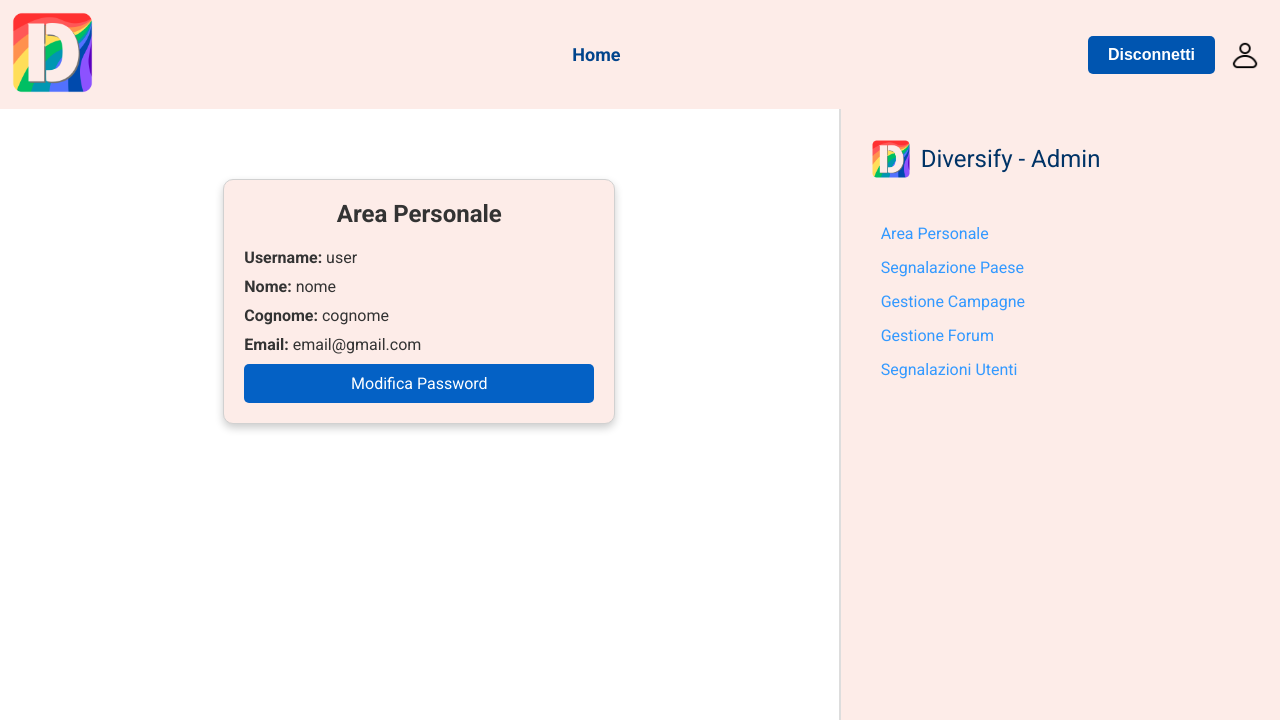
Test: Segnalazione Paese › Dovrebbe cercare e selezionare un paese dall'elenco
Click the link "Segnalazione Paese" at (953, 268), box [881,258,1024,277]
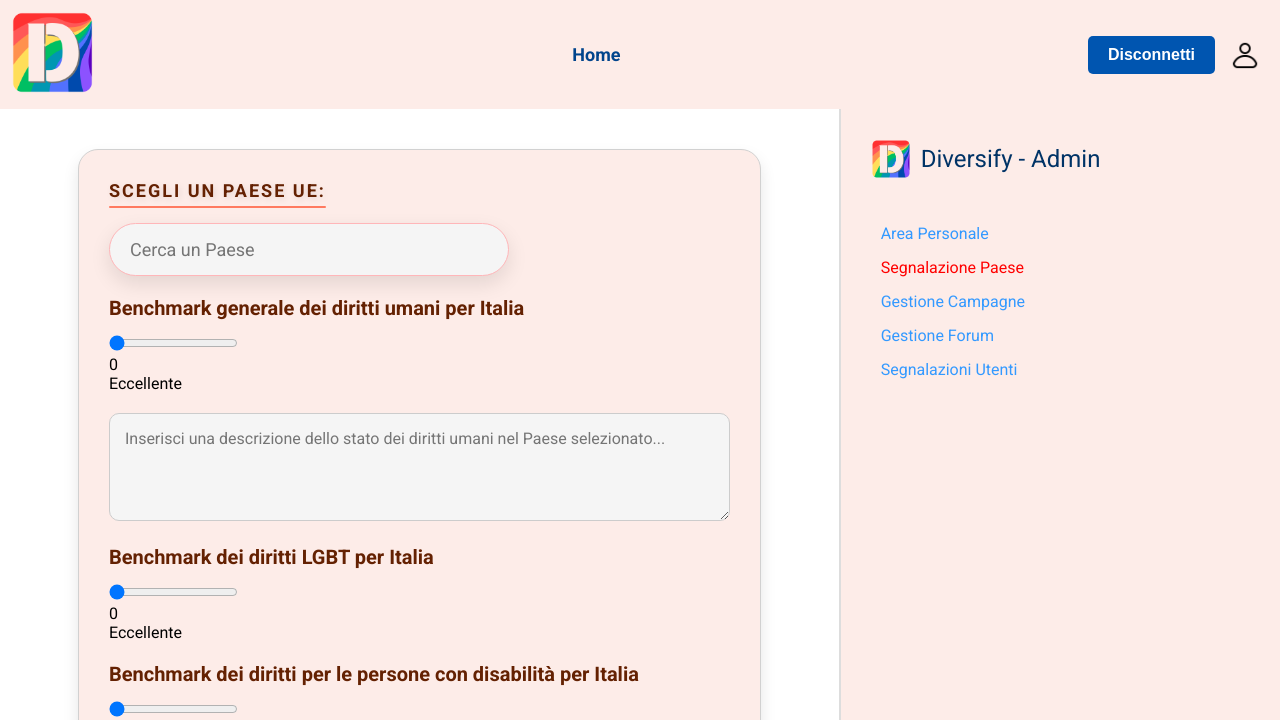
Click the field with id "country" at (309, 250), box [109,223,509,276]
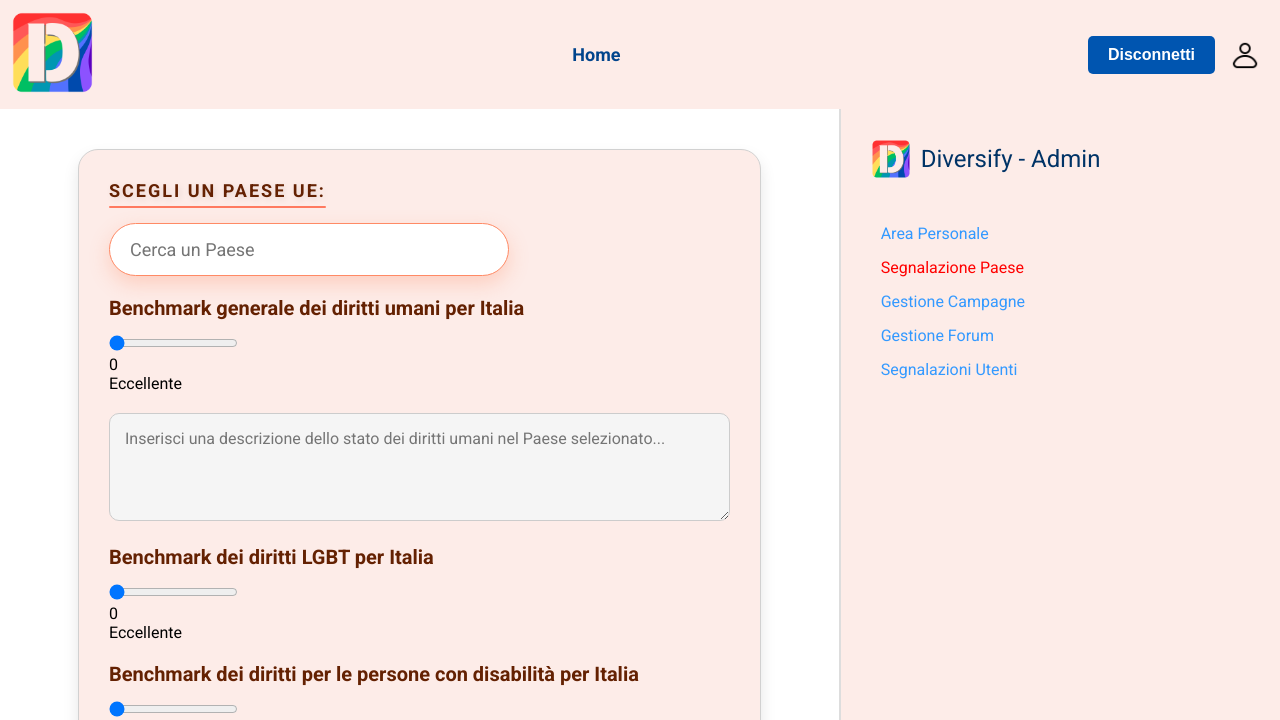
Type "Francia" into the field with id "country" at (309, 250), box [109,223,509,276]
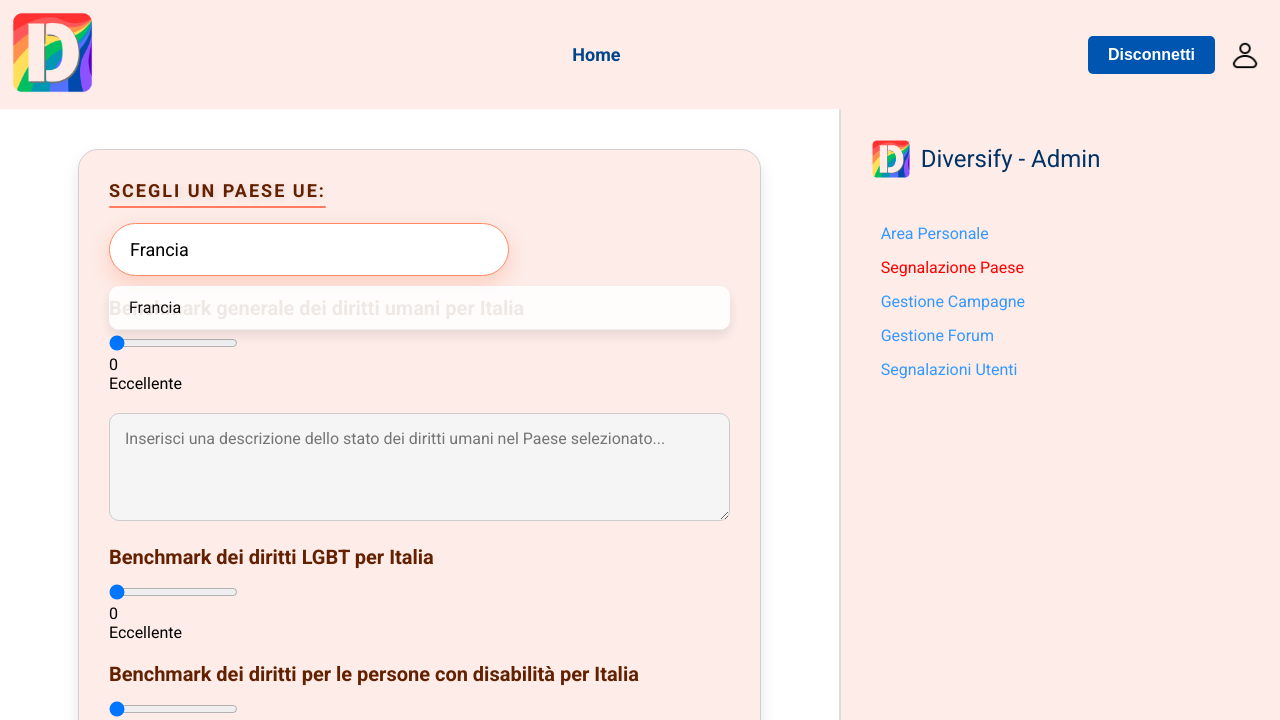
Now the number of list items is more than 0
Now the list item "Francia" is shown
Click the list item "Francia" at (420, 308), box [109,286,730,330]
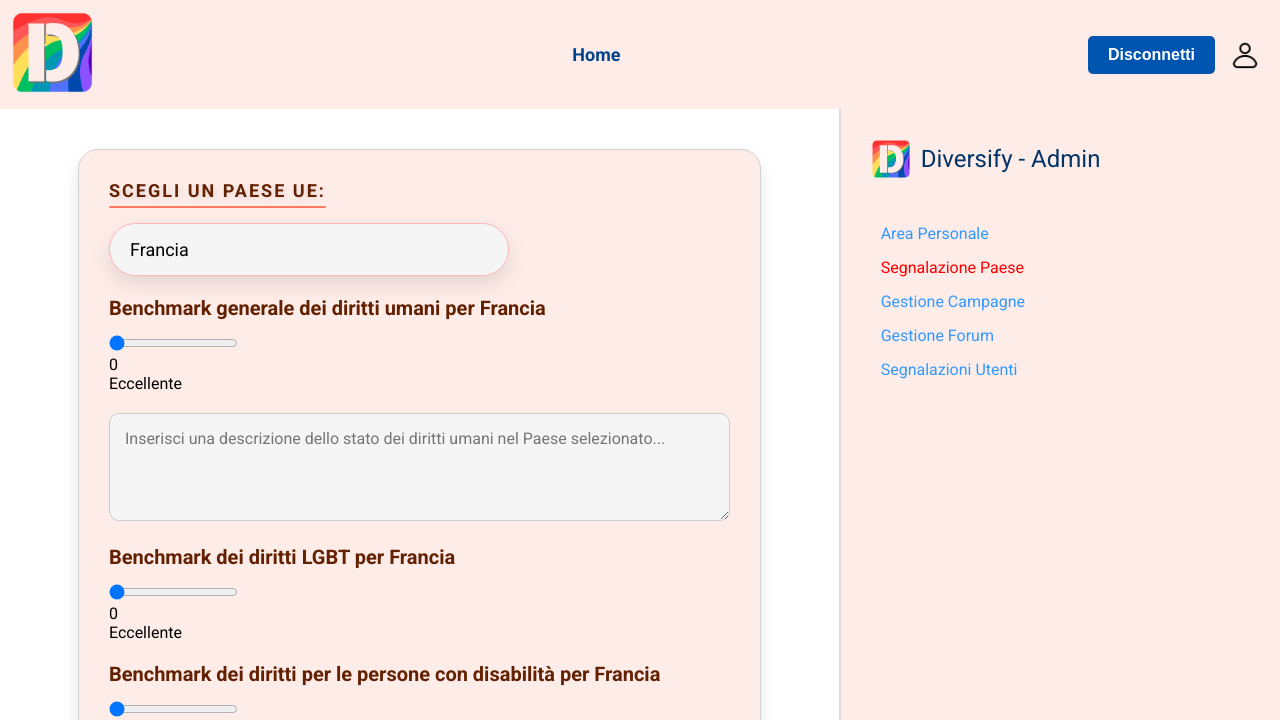
Now the heading "Benchmark generale dei diritti umani per Francia" is shown, box [109,296,546,320]
